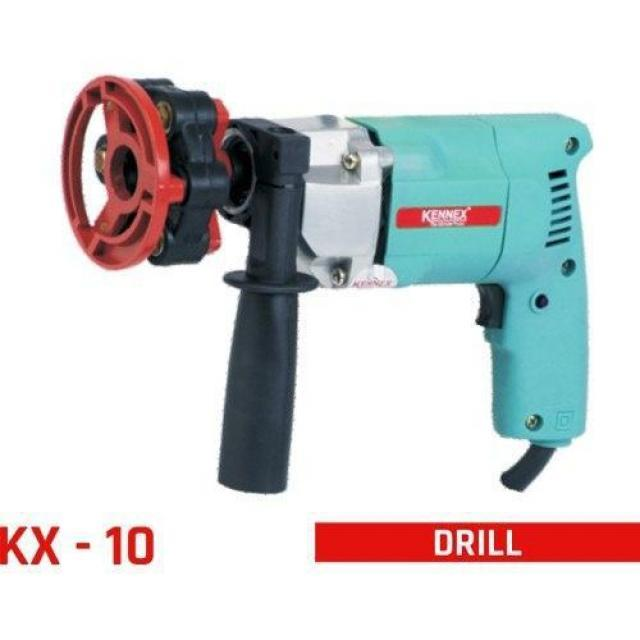drill: (217, 114, 592, 494)
